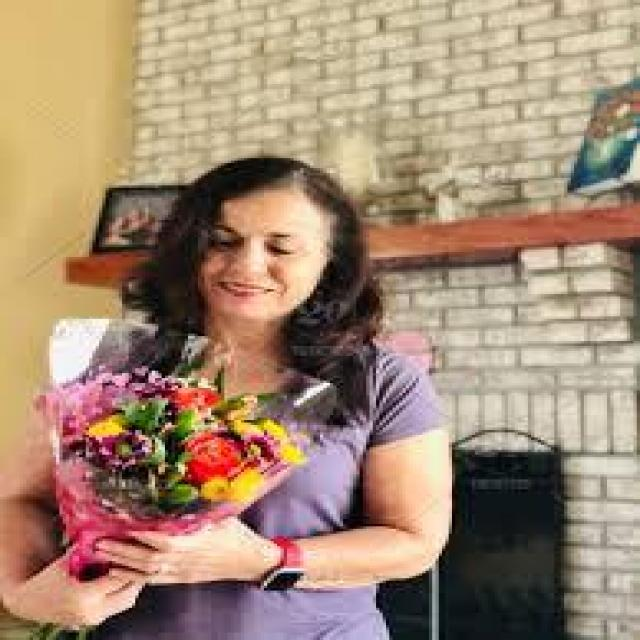organic waste: (64, 363, 240, 428), (177, 430, 256, 497)
